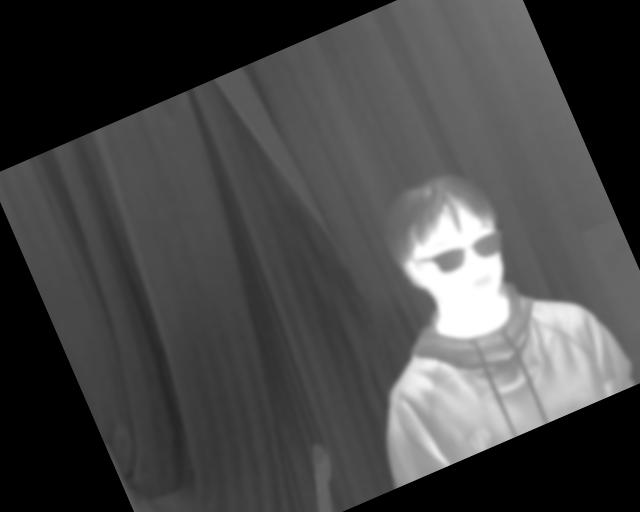face: (370, 159, 526, 328)
